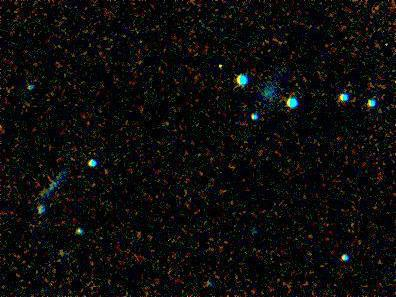star: (203, 52, 233, 82)
